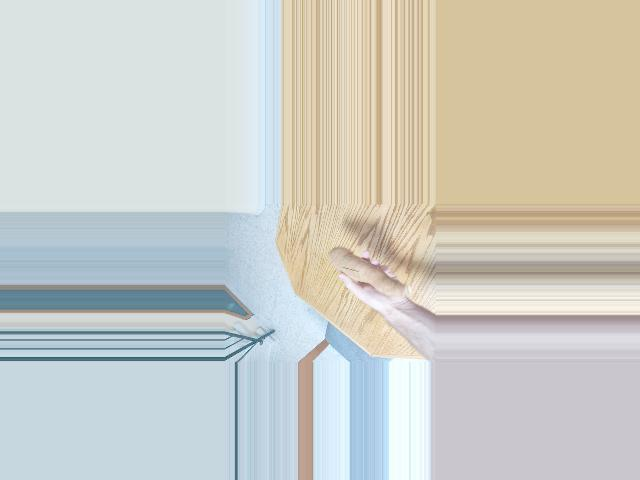sweet_potato: (325, 246, 413, 303)
